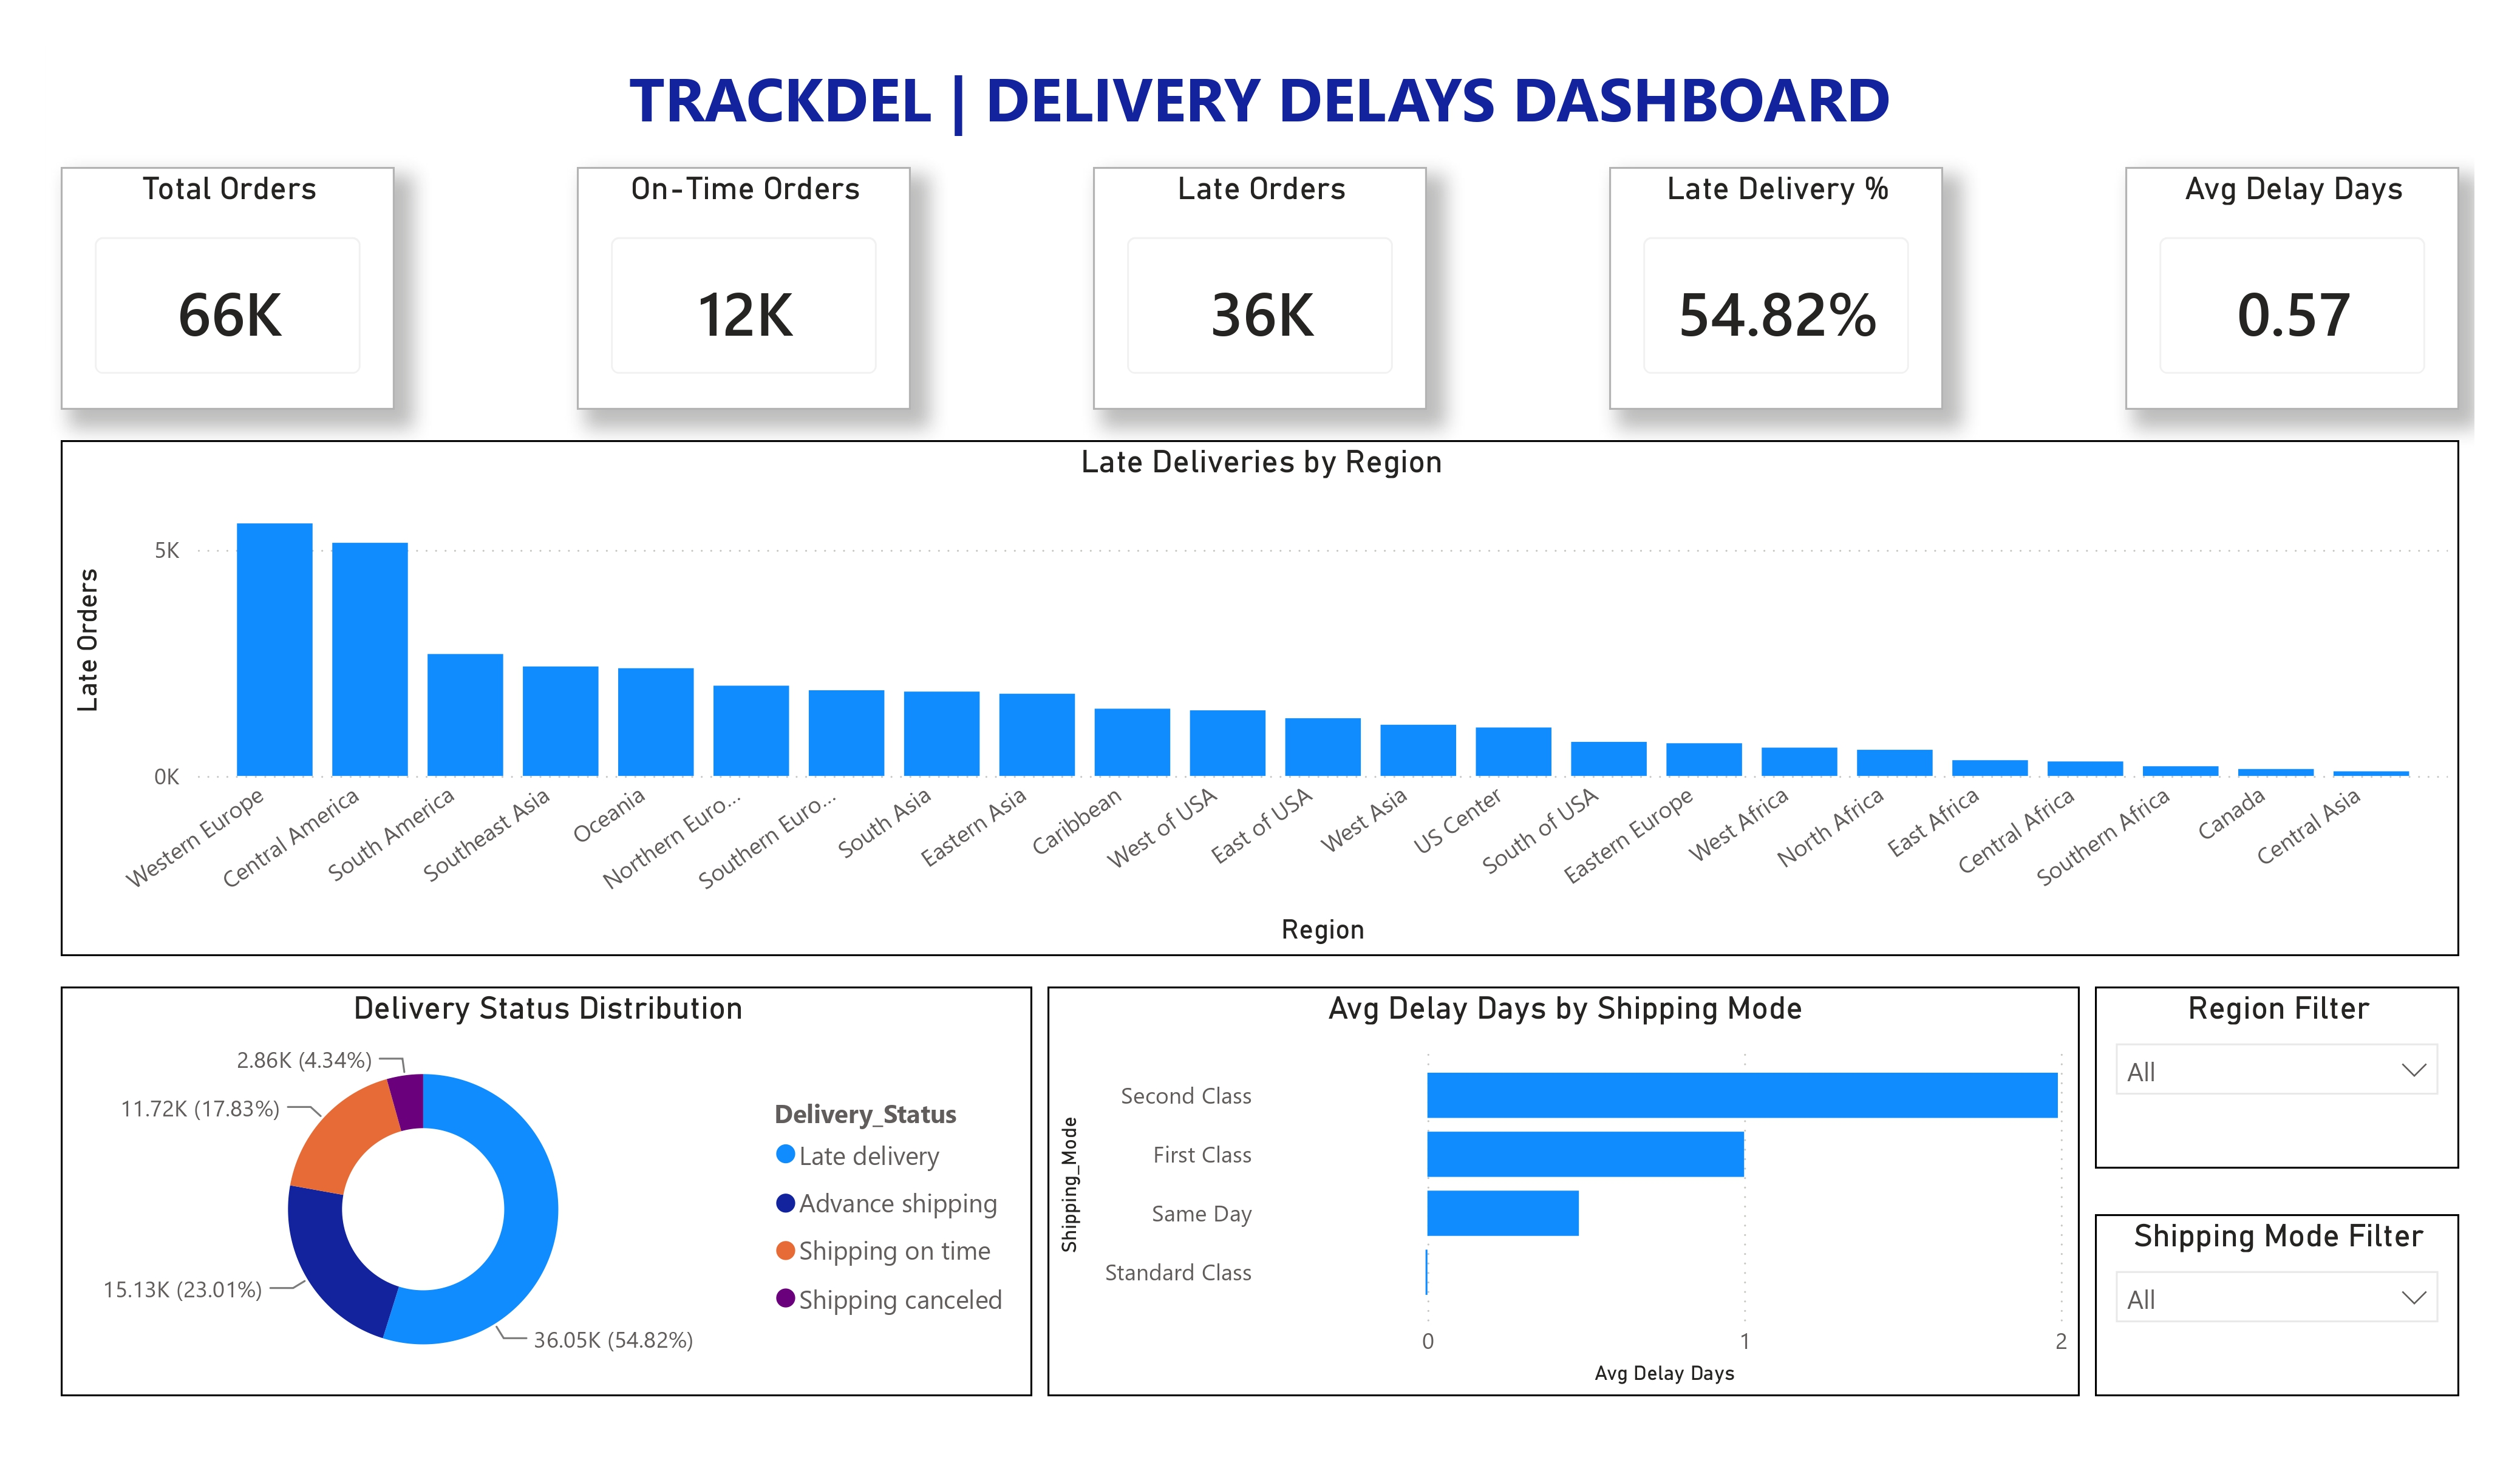

The page's visual inventory and layout, read from the dashboard file:
{"tool":"powerbi","page":{"name":"Page 1","canvas":[1280,720],"ordinal":0},"visuals":[{"type":"textbox","box":[0,0,1280,56],"z":0},{"type":"cardVisual","title":"Total Orders","fields":{"Data":["trackdel trackdel_data.Total Orders"]},"box":[8,64,176,128],"z":1000},{"type":"cardVisual","title":"Late Orders","fields":{"Data":["trackdel trackdel_data.Late Orders"]},"box":[552,64,176,128],"z":2000},{"type":"cardVisual","title":"On-Time Orders","fields":{"Data":["trackdel trackdel_data.On Time Orders"]},"box":[280,64,176,128],"z":3000},{"type":"cardVisual","title":"Late Delivery %","fields":{"Data":["trackdel trackdel_data.Late Delivery %"]},"box":[824,64,176,128],"z":4000},{"type":"cardVisual","title":"Avg Delay Days","fields":{"Data":["trackdel trackdel_data.Avg Delay Days"]},"box":[1096,64,176,128],"z":5000},{"type":"clusteredColumnChart","title":"Late Deliveries by Region","fields":{"Category":["trackdel trackdel_data.Order_Region"],"Y":["trackdel trackdel_data.Late Orders"]},"box":[8,208,1264,272],"z":6000},{"type":"donutChart","title":"Delivery Status Distribution","fields":{"Category":["trackdel trackdel_data.Delivery_Status"],"Y":["Count(trackdel trackdel_data.Order_Id)"]},"box":[8,496,512,216],"z":7000},{"type":"clusteredBarChart","title":"Avg Delay Days by Shipping Mode","fields":{"Category":["trackdel trackdel_data.Shipping_Mode"],"Y":["Avg(trackdel trackdel_data.Delay_Days)"]},"box":[528,496,544,216],"z":8000},{"type":"slicer","title":"Region Filter","fields":{"Values":["trackdel trackdel_data.Order_Region"]},"box":[1080,496,192,96],"z":9000},{"type":"slicer","title":"Shipping Mode Filter","fields":{"Values":["trackdel trackdel_data.Shipping_Mode"]},"box":[1080,616,192,96],"z":10000}]}

Visuals, with their boxes on the page's 1280x720 design canvas (x1, y1, x2, y2). These are canvas units, not pixel positions in the 2520x1457 screenshot, which may show the page scaled, cropped or inside an application window:
textbox: 0, 0, 1280, 56
"Total Orders" cardVisual: 8, 64, 184, 192
"Late Orders" cardVisual: 552, 64, 728, 192
"On-Time Orders" cardVisual: 280, 64, 456, 192
"Late Delivery %" cardVisual: 824, 64, 1000, 192
"Avg Delay Days" cardVisual: 1096, 64, 1272, 192
"Late Deliveries by Region" clusteredColumnChart: 8, 208, 1272, 480
"Delivery Status Distribution" donutChart: 8, 496, 520, 712
"Avg Delay Days by Shipping Mode" clusteredBarChart: 528, 496, 1072, 712
"Region Filter" slicer: 1080, 496, 1272, 592
"Shipping Mode Filter" slicer: 1080, 616, 1272, 712
